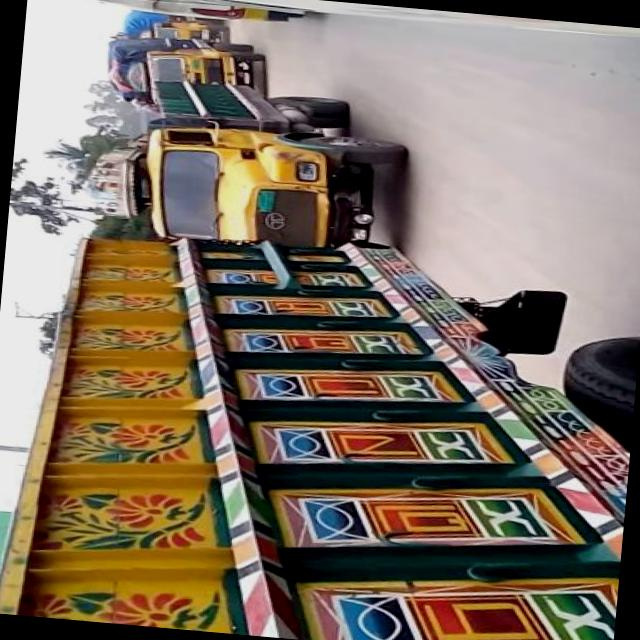truck: (0, 208, 639, 640), (85, 66, 416, 256), (99, 28, 261, 114), (120, 8, 228, 44)
